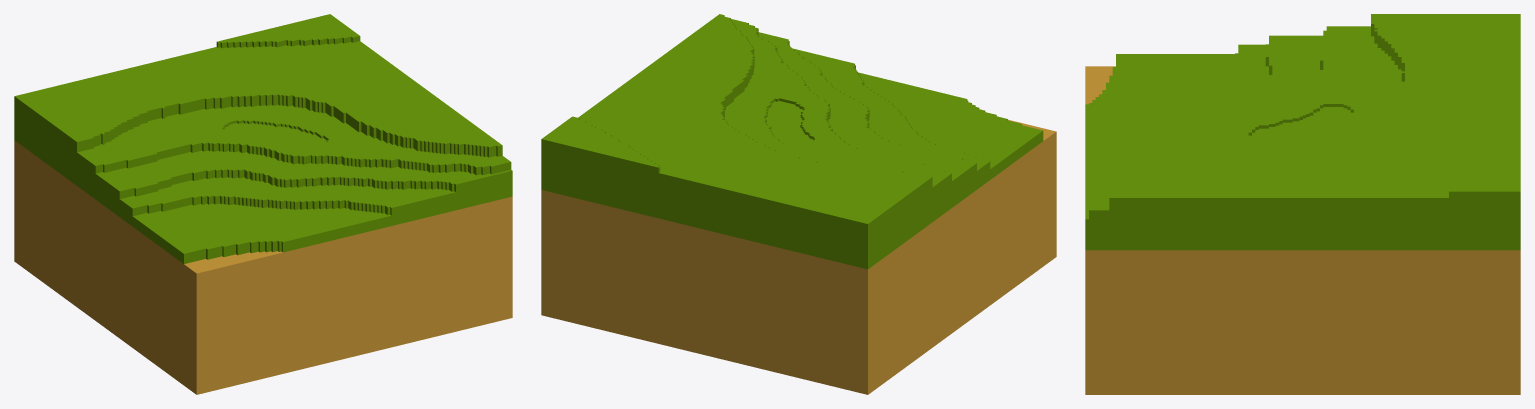
3 renders of one model, left to right at view 1: azimuth 30°, elevation 25°; view 2: azimuth 150°, elevation 25°; view 3: azimuth 270°, elevation 25°, orthographic. The views are drawn at different scales.
Parts seen in each view (by area): view 1: 14B.001; view 2: 14B.001; view 3: 14B.001.
Part boxes in pixels (<box>): 14B.001: <box>14,14,512,394</box>; 14B.001: <box>541,14,1056,394</box>; 14B.001: <box>1085,14,1520,394</box>.
Size of the model in its own units: 12.8 by 6.6 by 12.8.
1 material, 1 textured.
